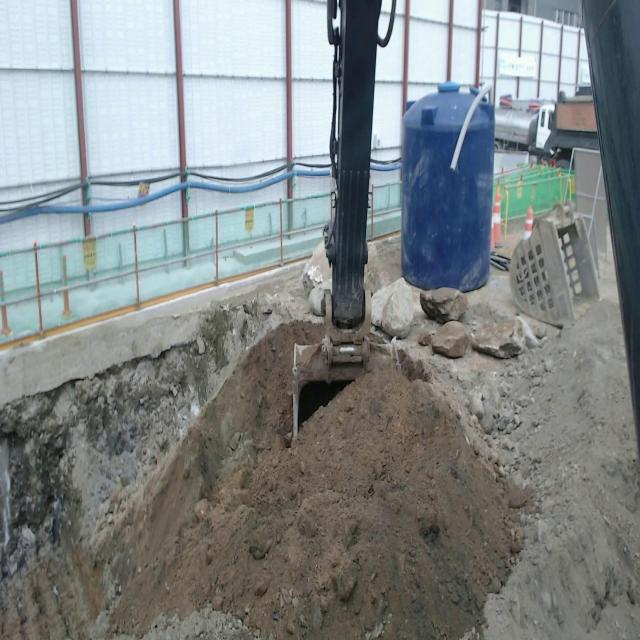stone: (371, 279, 414, 338), (470, 321, 524, 359), (420, 287, 468, 324), (431, 321, 470, 358), (302, 241, 329, 290)
white-sand: (0, 306, 640, 639)
